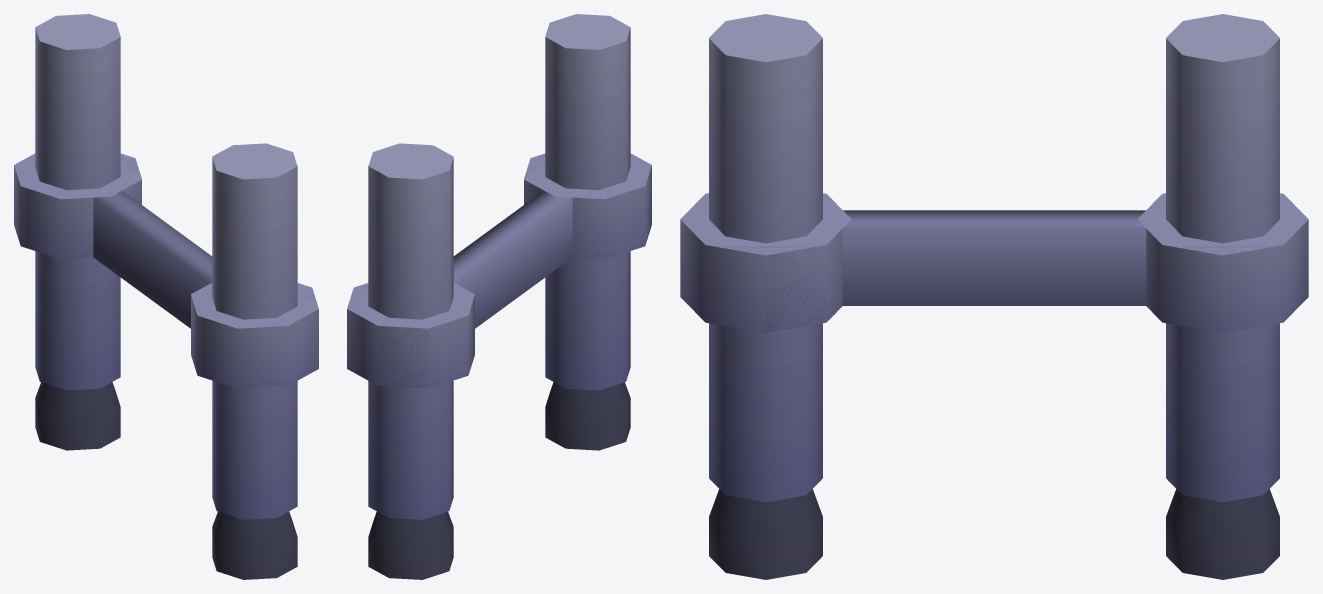
Rendered from structure-medium.glb.
The picture shows the model from 3 angles, left to right: view 1: azimuth 30°, elevation 25°; view 2: azimuth 150°, elevation 25°; view 3: azimuth 270°, elevation 25°; orthographic projection. The views are drawn at different scales.
Visible parts, largest first — view 1: structure-medium; view 2: structure-medium; view 3: structure-medium.
Boxes of the visible parts, x1=… form: structure-medium: x1=14, y1=14, x2=318, y2=579; structure-medium: x1=347, y1=14, x2=651, y2=579; structure-medium: x1=680, y1=14, x2=1308, y2=579.
Bounding box in the file's own units: 0.3 × 1 × 1.1.
Materials: 1 (1 with a texture image).
